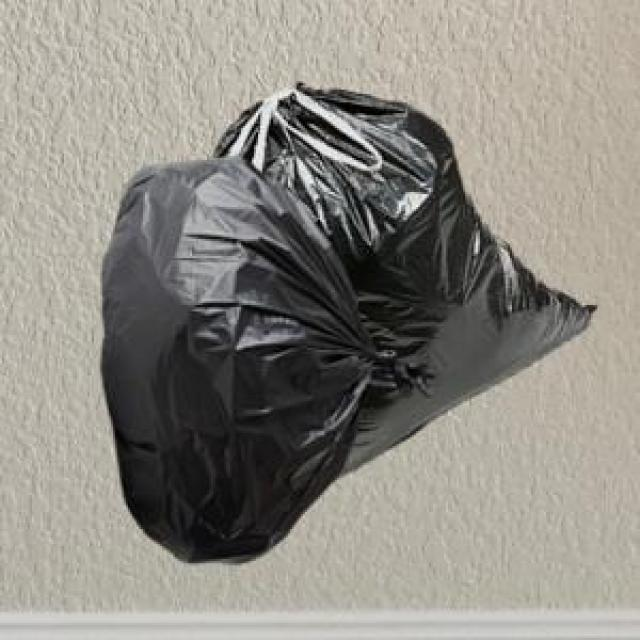waste: (102, 85, 593, 559)
